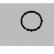no answer: (18, 9, 45, 34)
